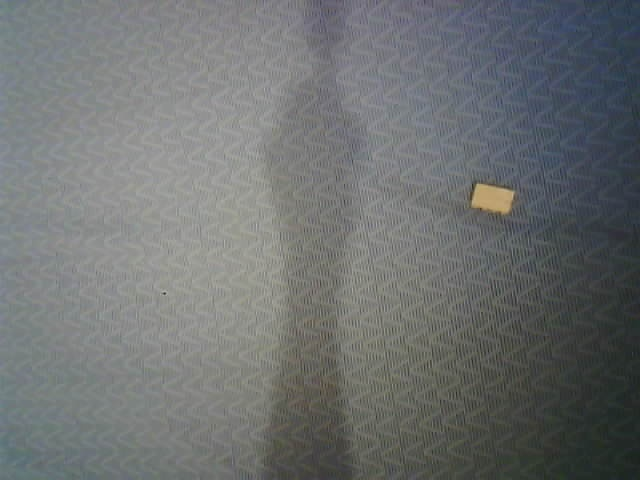lego: (469, 182, 515, 216)
